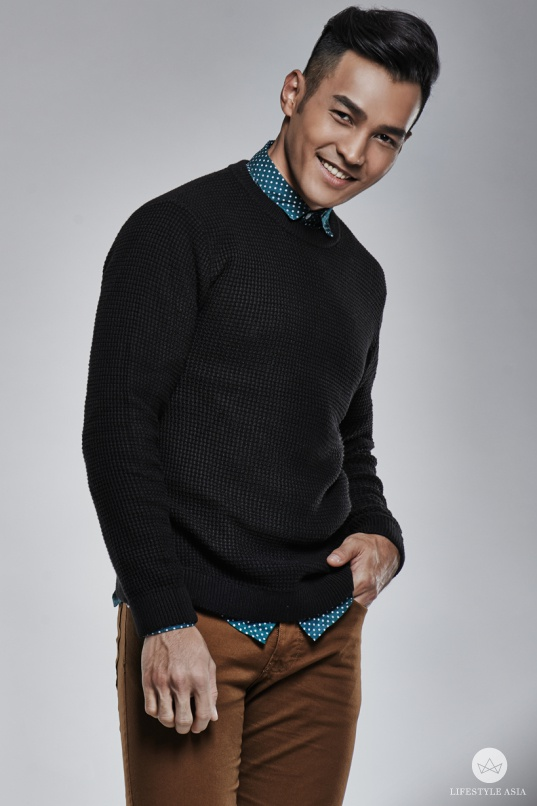bad: (294, 92, 402, 199)
